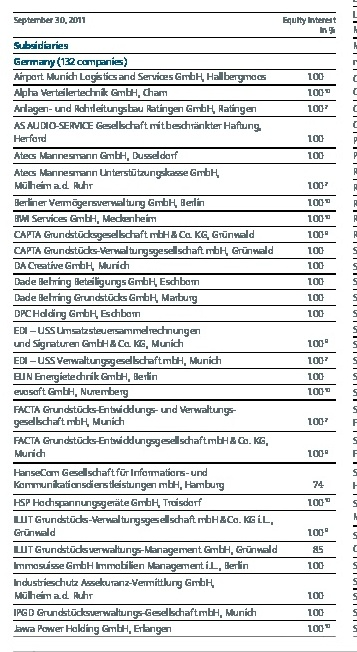table: (0, 0, 357, 652)
